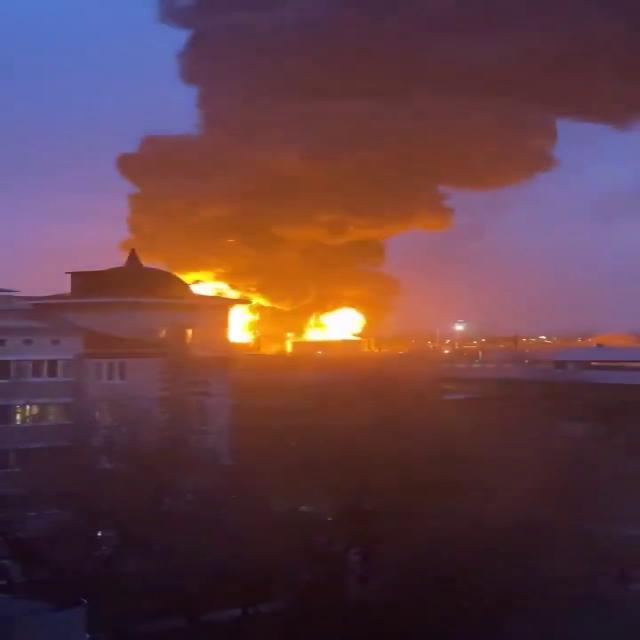Fire: (303, 308, 363, 339), (228, 304, 253, 344), (188, 272, 228, 296)
Smoke: (116, 0, 640, 270)
